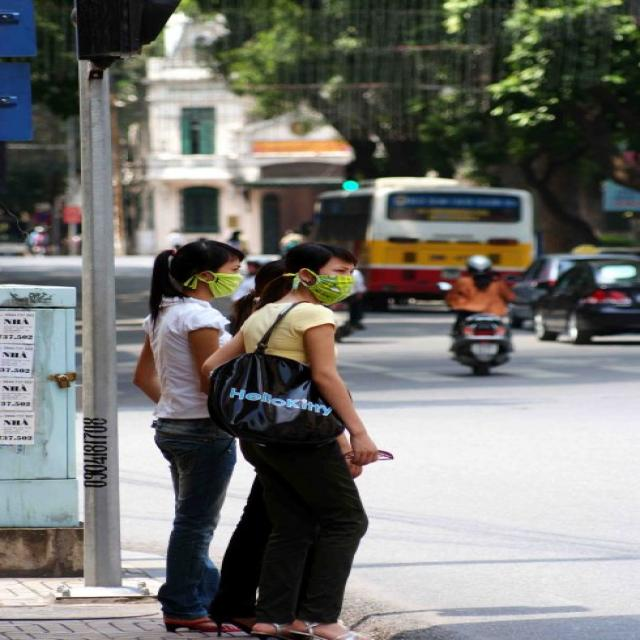mask: (315, 256, 351, 304), (210, 254, 242, 298)
